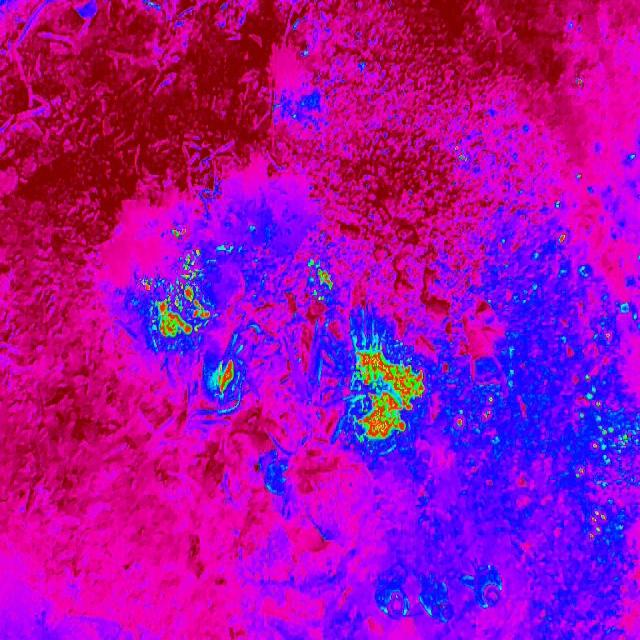fire: (561, 287, 640, 549), (142, 222, 220, 337), (347, 344, 428, 444), (447, 393, 503, 433), (304, 260, 336, 304), (209, 359, 238, 399), (549, 229, 573, 251), (452, 148, 473, 166)
